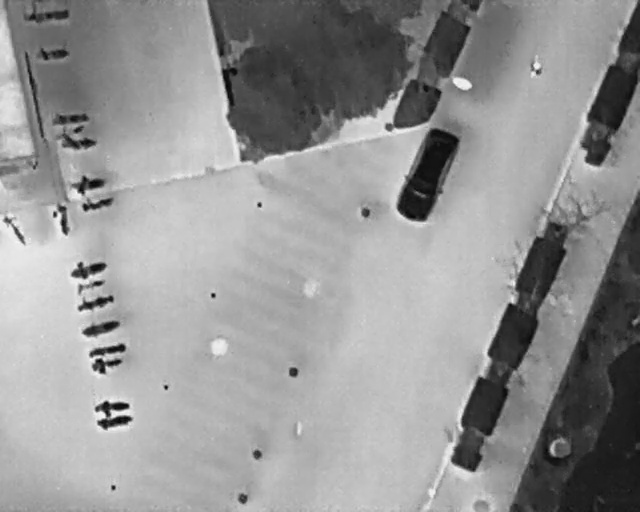Bicycle: (0, 209, 33, 250), (78, 315, 124, 342), (67, 254, 110, 282), (74, 290, 117, 317), (90, 393, 132, 420), (48, 118, 89, 145), (47, 198, 74, 239), (25, 3, 70, 26), (68, 171, 106, 196), (71, 274, 110, 298), (76, 191, 116, 214), (94, 411, 135, 433), (88, 353, 124, 378), (86, 340, 128, 361), (48, 109, 91, 127), (35, 42, 71, 63), (58, 135, 97, 153)
Car: (386, 119, 468, 228)
Person: (527, 53, 545, 82)
